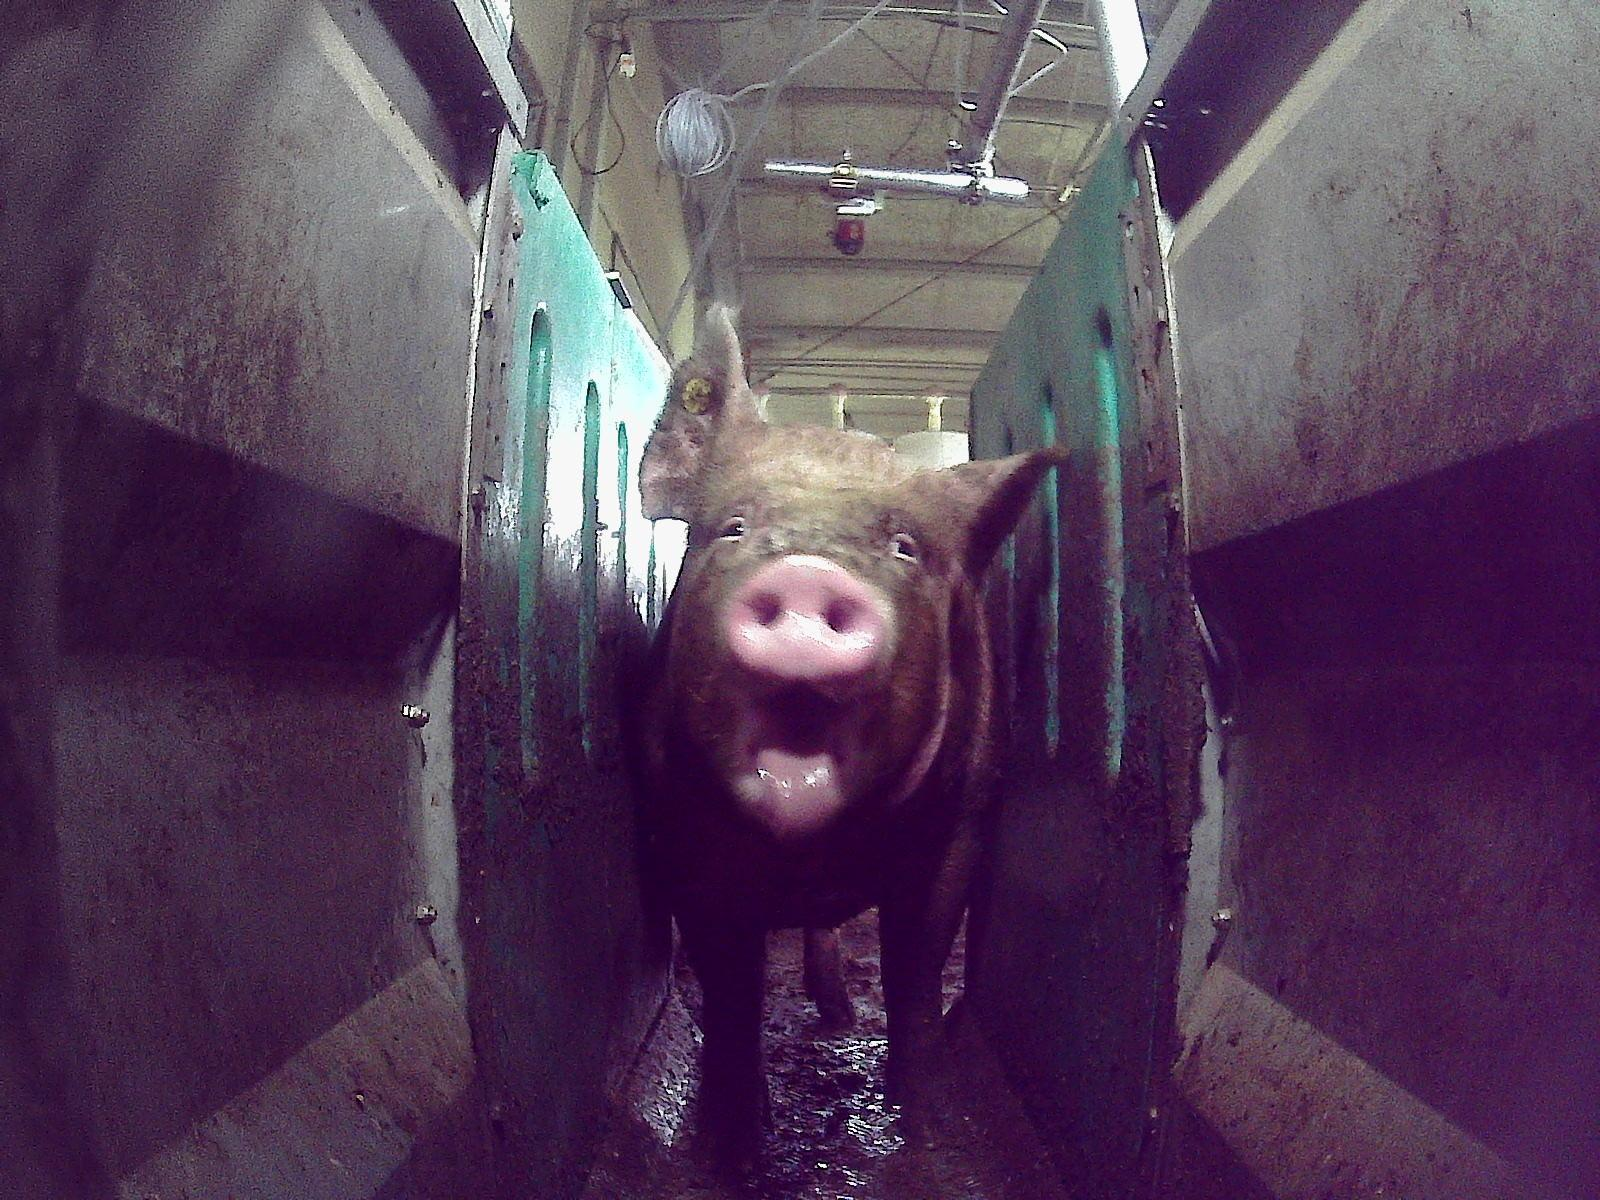Face: (669, 450, 947, 825)
